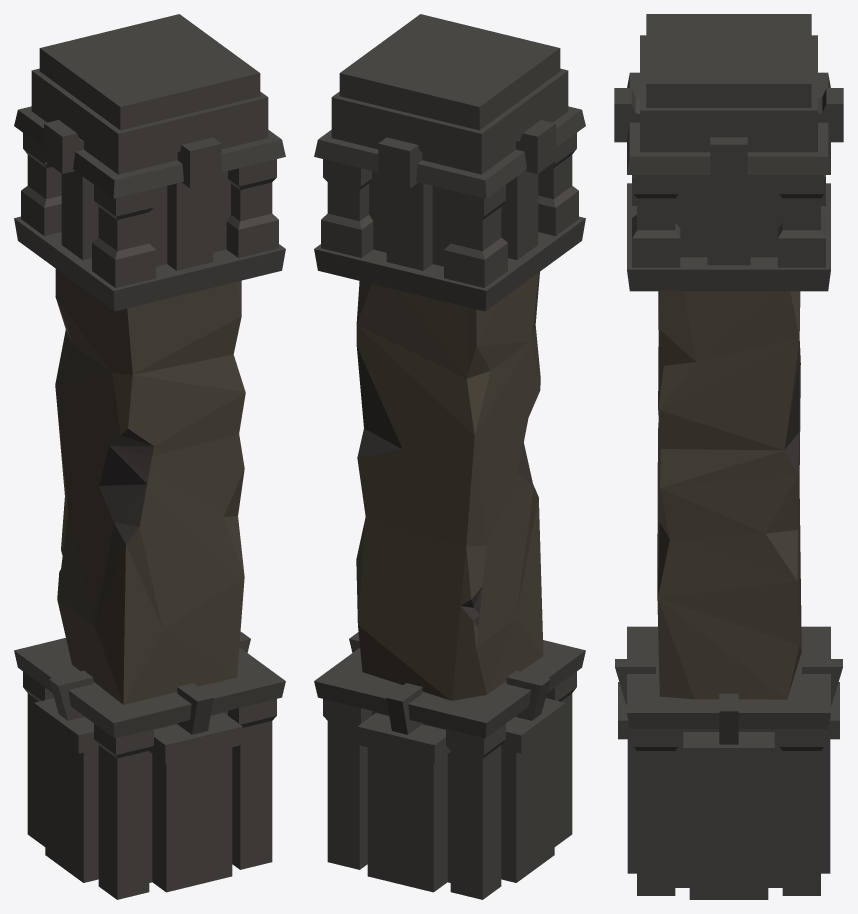
Rendered from Pillar_2B.fbx.
3 views of the same model, side by side, from view 1: azimuth 30°, elevation 25°; view 2: azimuth 150°, elevation 25°; view 3: azimuth 270°, elevation 25° (orthographic). The views are drawn at different scales.
Visible parts, largest first — view 1: polySurface1296; view 2: polySurface1296; view 3: polySurface1296.
Boxes of the visible parts, x1=… form: polySurface1296: x1=14, y1=14, x2=285, y2=899; polySurface1296: x1=314, y1=14, x2=585, y2=899; polySurface1296: x1=614, y1=14, x2=843, y2=899.
Size of the model in its own units: 2.05 by 7.96 by 2.05.
